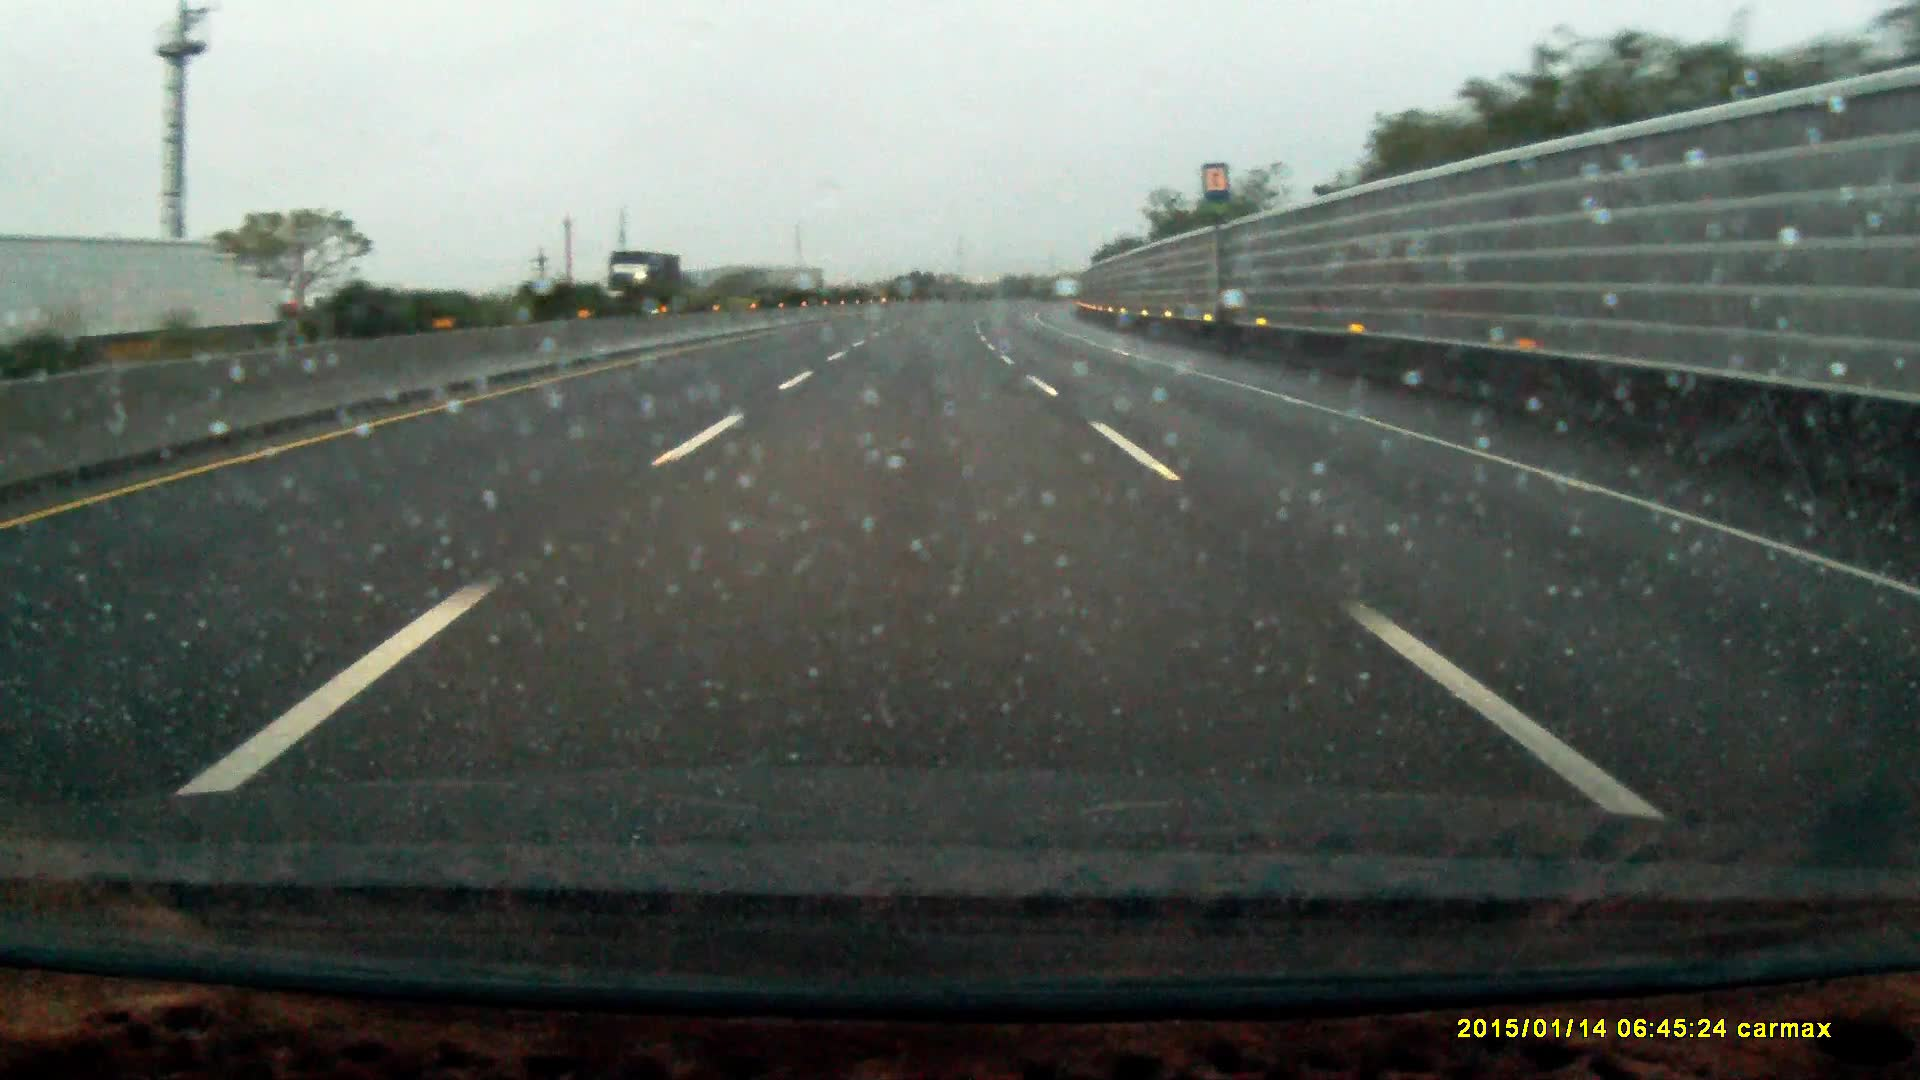vehicle: (607, 248, 686, 313)
